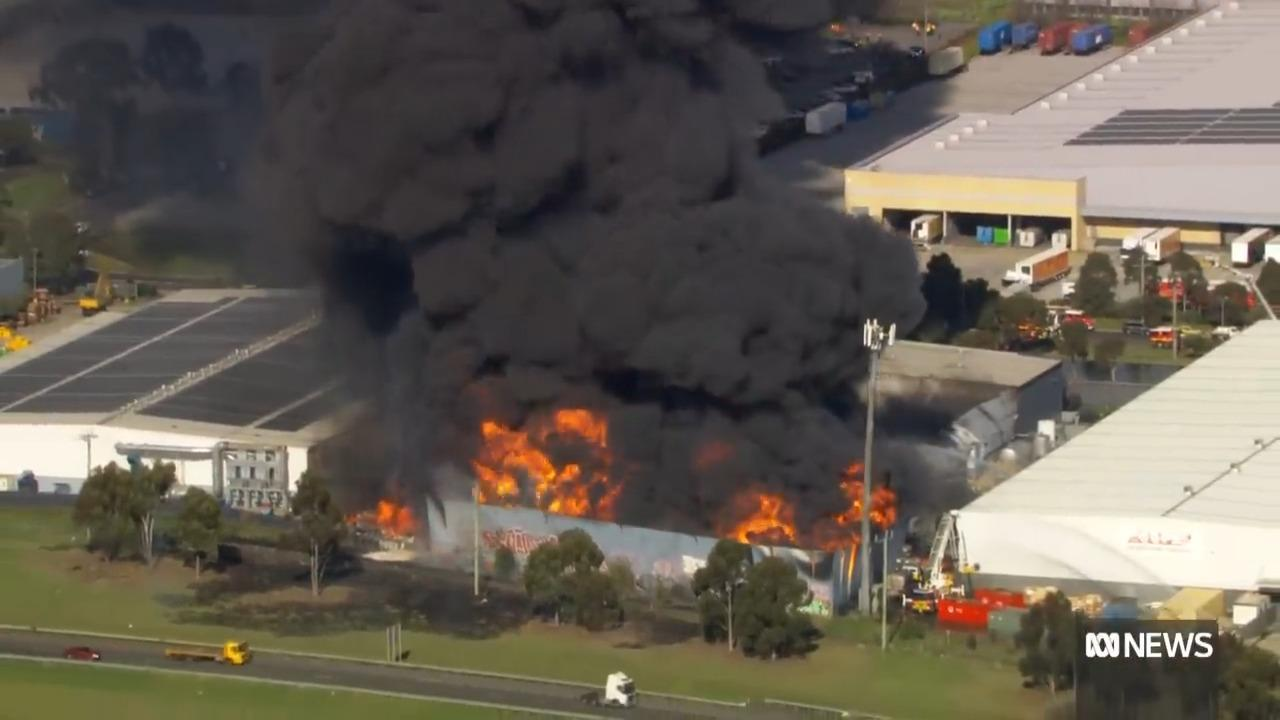fire: (472, 406, 616, 516), (740, 499, 817, 555), (363, 497, 419, 560), (836, 464, 891, 521)
